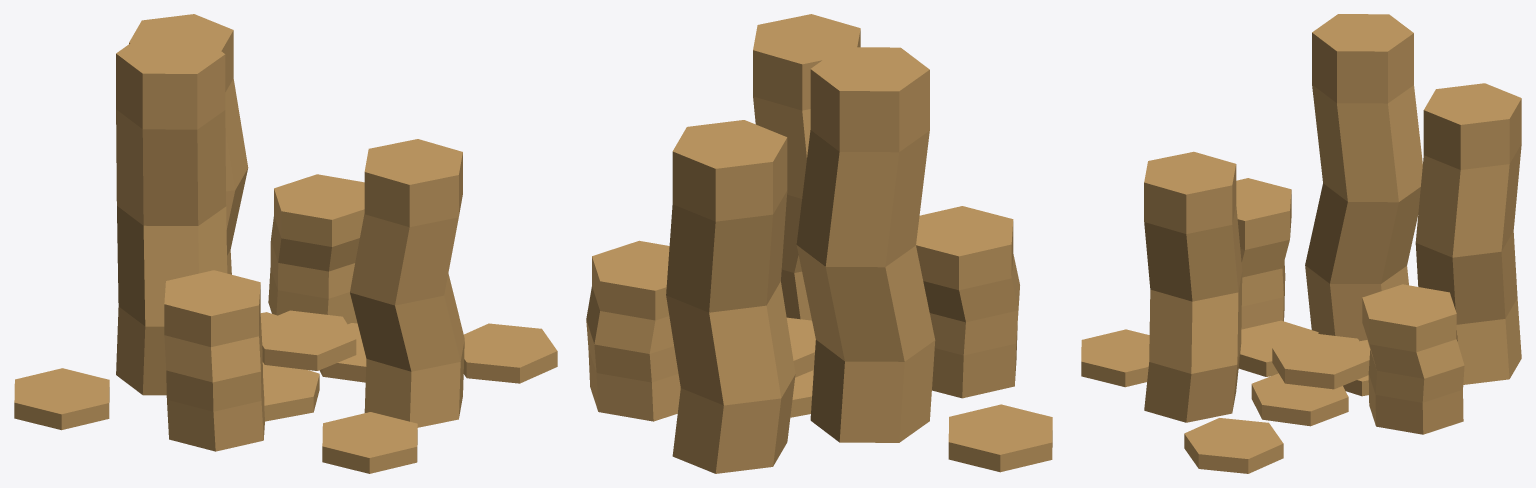
The model's file is SM_Item_Coins_04.glb.
3 renders of one model, left to right at view 1: azimuth 30°, elevation 25°; view 2: azimuth 150°, elevation 25°; view 3: azimuth 270°, elevation 25°, orthographic. The views are drawn at different scales.
Parts seen in each view (by area): view 1: SM_Item_Coins_04; view 2: SM_Item_Coins_04; view 3: SM_Item_Coins_04.
Part boxes in pixels (x1,y1,x2,y2): SM_Item_Coins_04: [14, 14, 557, 473]; SM_Item_Coins_04: [586, 14, 1052, 473]; SM_Item_Coins_04: [1081, 14, 1521, 473].
Size of the model in its own units: 0.00422 by 0.00275 by 0.00366.
Materials: 1 (1 with a texture image).
